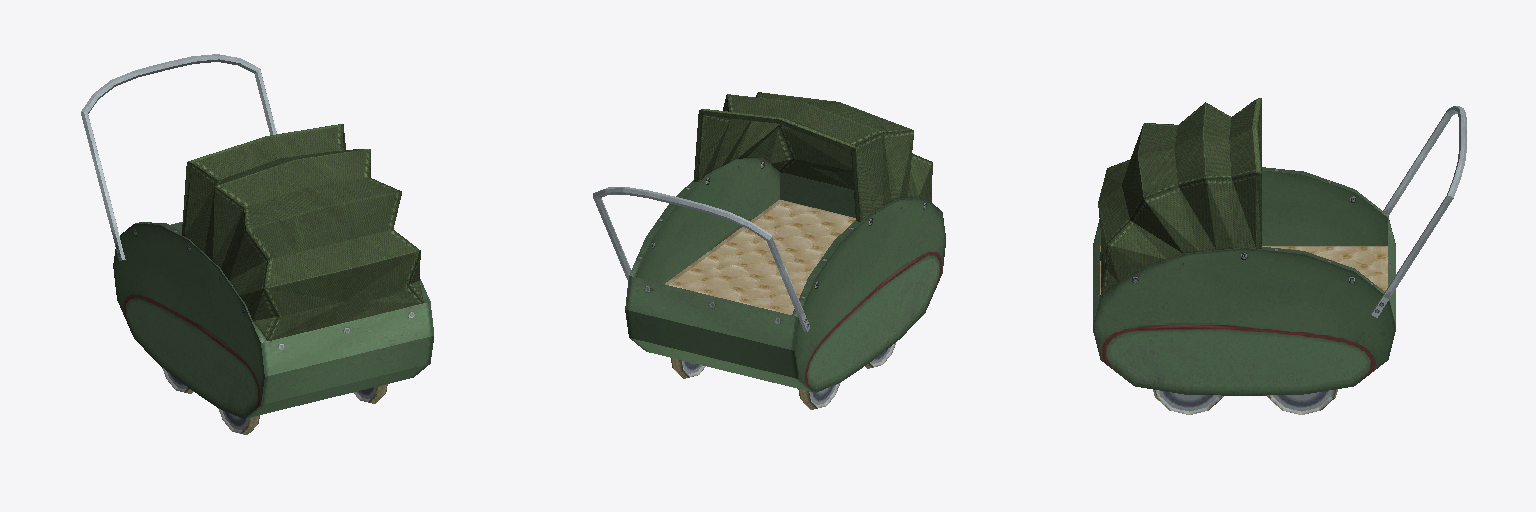
3 renders of one model, left to right at view 1: azimuth 30°, elevation 25°; view 2: azimuth 150°, elevation 25°; view 3: azimuth 270°, elevation 25°, orthographic.
Parts seen in each view (by area): view 1: BabyCarriage; view 2: BabyCarriage; view 3: BabyCarriage.
Boxes of the visible parts, <box> form: BabyCarriage: <box>81,54,433,434</box>; BabyCarriage: <box>593,92,945,409</box>; BabyCarriage: <box>1093,98,1466,414</box>.
Bounding box in the file's own units: 1.32 × 1.8 × 2.38.
Materials: 1 (1 with a texture image).